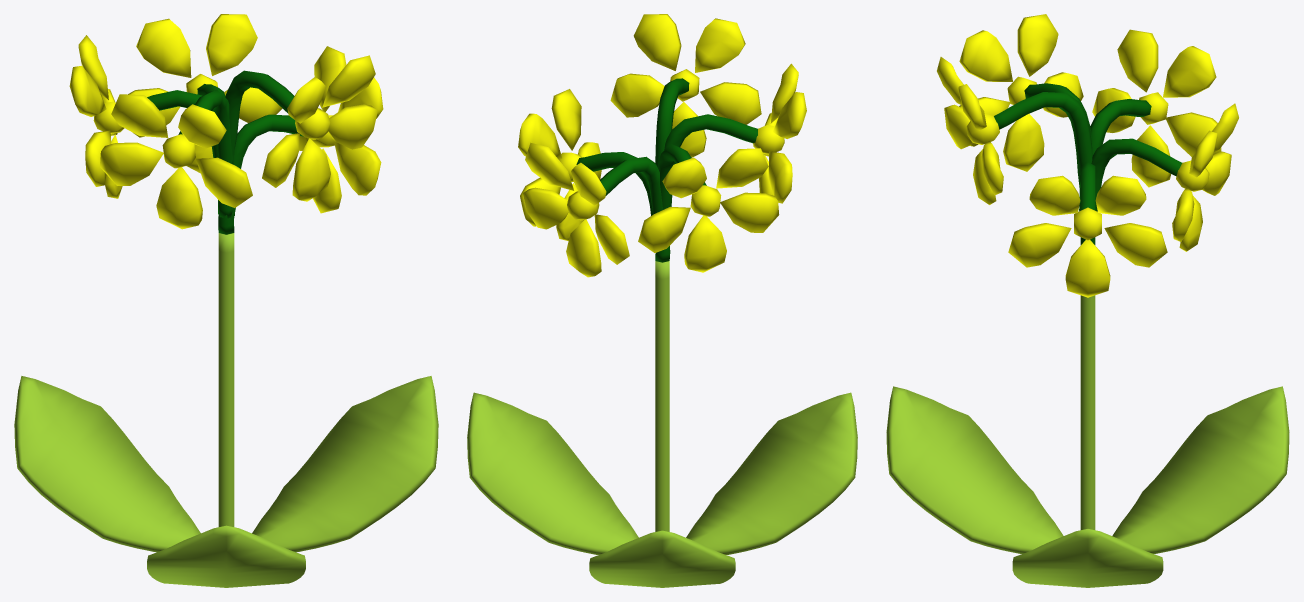
File: primrose_0003.obj
3 renders of one model, left to right at view 1: azimuth 30°, elevation 25°; view 2: azimuth 150°, elevation 25°; view 3: azimuth 270°, elevation 25°, orthographic. The views are drawn at different scales.
Visible parts, largest first — view 1: primrose_0003; view 2: primrose_0003; view 3: primrose_0003.
Part boxes in pixels (x1=…): primrose_0003: x1=14, y1=14, x2=438, y2=587; primrose_0003: x1=467, y1=14, x2=857, y2=587; primrose_0003: x1=886, y1=14, x2=1289, y2=587.
Size of the model in its own units: 2.23 by 3.25 by 2.35.
1 material, 1 textured.
